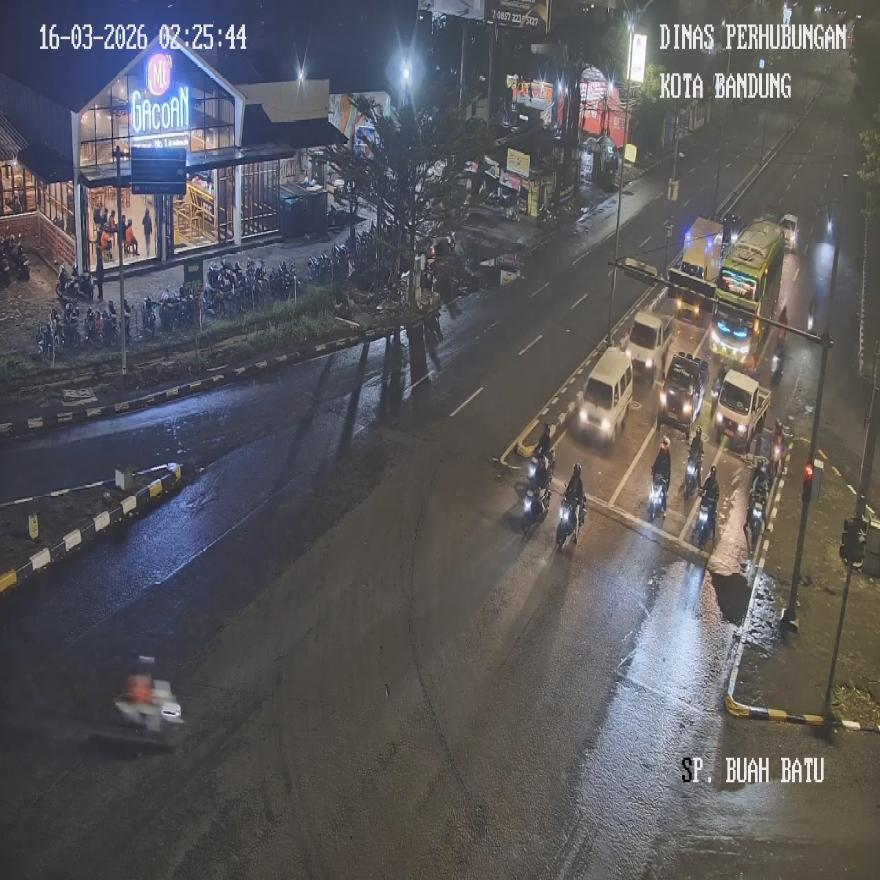Mobil: (578, 346, 633, 445), (712, 368, 772, 453), (624, 308, 673, 384)
Motor: (524, 451, 552, 527), (555, 493, 581, 551), (522, 480, 548, 537), (695, 491, 716, 548), (747, 491, 766, 550), (648, 473, 668, 522), (684, 452, 702, 499), (768, 345, 784, 386)
